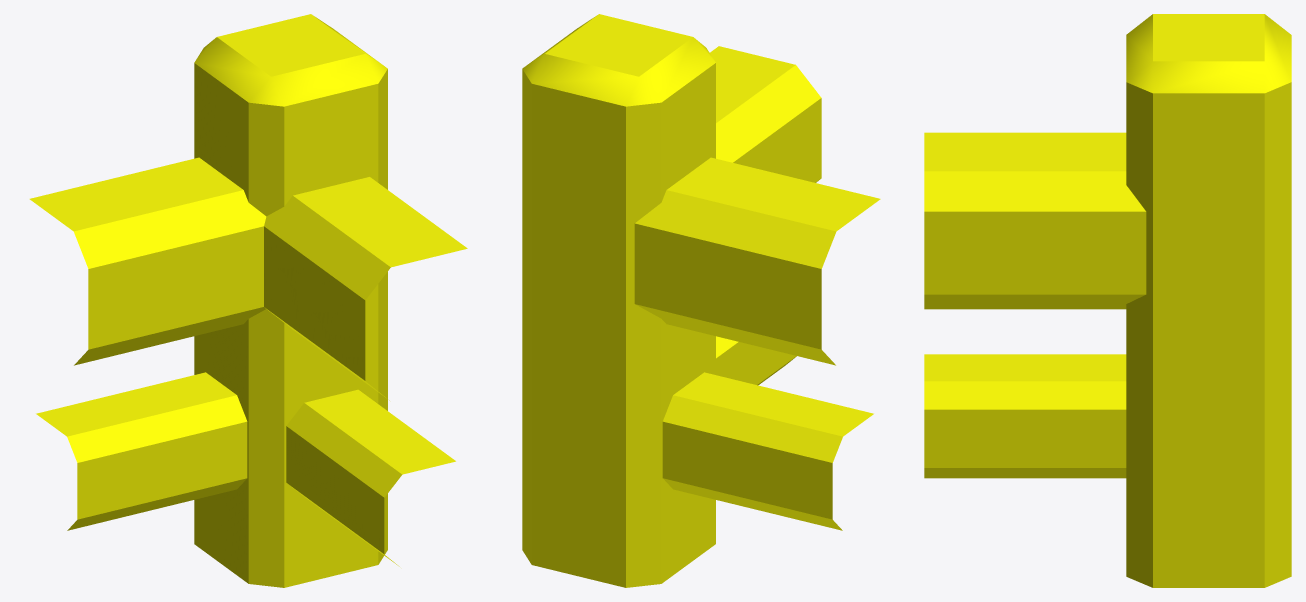
Rendered from Fence_Corner.glb.
The picture shows the model from 3 angles, left to right: view 1: azimuth 30°, elevation 25°; view 2: azimuth 150°, elevation 25°; view 3: azimuth 270°, elevation 25°; orthographic projection. The views are drawn at different scales.
Parts seen in each view (by area): view 1: Fence_Corner; view 2: Fence_Corner; view 3: Fence_Corner.
Part boxes in pixels (x1=…): Fence_Corner: x1=29, y1=14, x2=467, y2=587; Fence_Corner: x1=522, y1=14, x2=880, y2=587; Fence_Corner: x1=924, y1=14, x2=1291, y2=587.
Size of the model in its own units: 1.29 by 2 by 1.29.
1 material, 1 textured.
